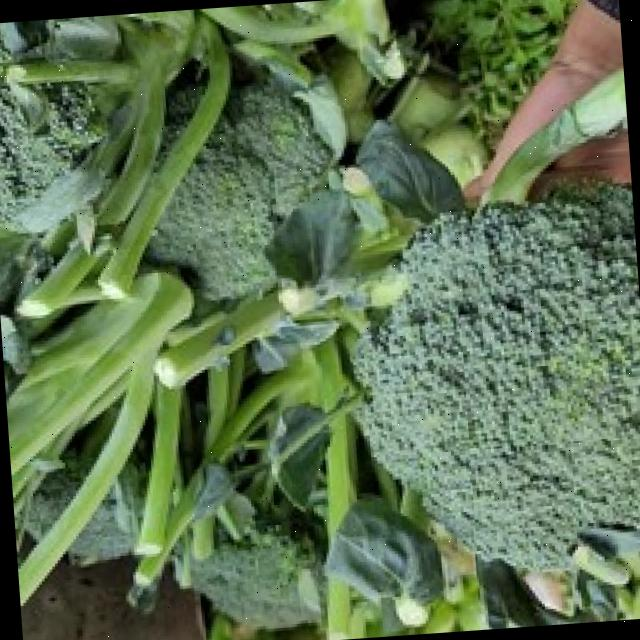Broccoli: (352, 183, 640, 568), (352, 187, 640, 567), (148, 79, 329, 299), (149, 79, 329, 299), (189, 523, 321, 628), (191, 530, 319, 627), (25, 406, 115, 537), (25, 409, 113, 537), (68, 467, 141, 564), (68, 468, 141, 564)
